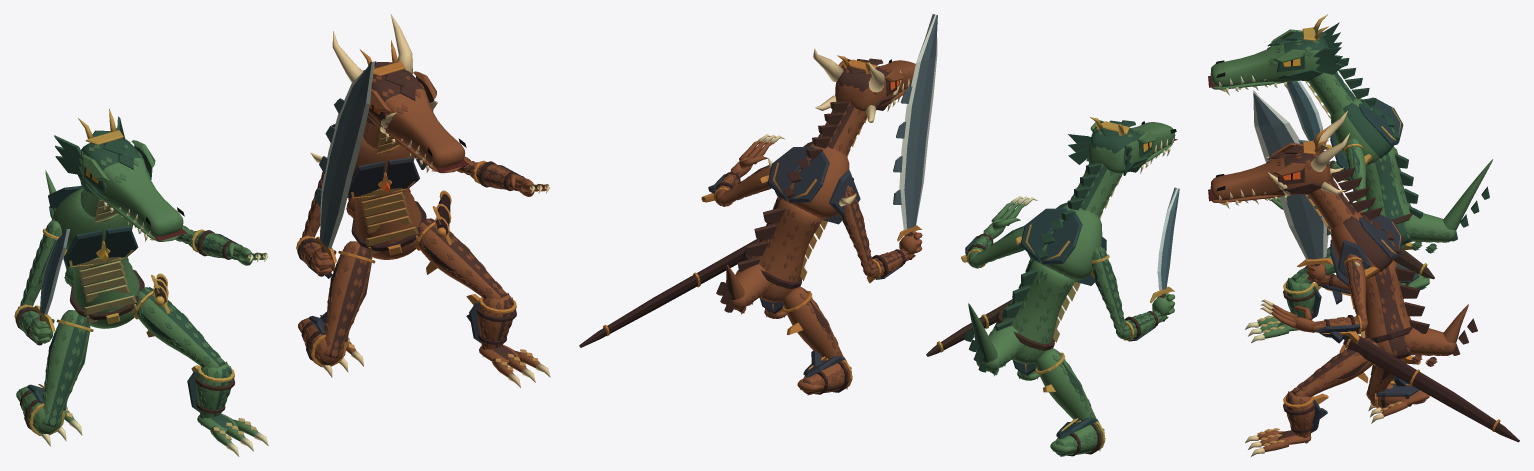
Rendered from reptiles.glb.
3 renders of one model, left to right at view 1: azimuth 30°, elevation 25°; view 2: azimuth 150°, elevation 25°; view 3: azimuth 270°, elevation 25°, orthographic. The views are drawn at different scales.
Visible parts, largest first — view 1: Dino.15.ridge forged cleaver, Liz.09.sculpted cranial planes, Dino.09.sculpted cranial planes, Liz.40.tendon and muscle surface, Dino.40.tendon and muscle surface, Liz.47.tendon and muscle surface, Dino.47.tendon and muscle surface, Dino.48.lean continuous abdomen, Liz.48.lean continuous abdomen, Liz.25.shoulder girdle, Liz.15.ridge forged falchion, Liz.25.pectoral cuirass (+10 smaller); view 2: Dino.15.ridge forged cleaver, Liz.48.lean continuous abdomen, Dino.48.lean continuous abdomen, Liz.09.sculpted cranial planes, Dino.33.fitted leather scabbard, Dino.09.sculpted cranial planes, Liz.25.shoulder girdle, Liz.40.tendon and muscle surface, Dino.40.tendon and muscle surface, Dino.25.shoulder girdle, Liz.15.ridge forged falchion, Dino.25.scapular backplate (+14 smaller); view 3: Dino.15.ridge forged cleaver, Dino.33.fitted leather scabbard, Liz.09.sculpted cranial planes, Dino.09.sculpted cranial planes, Dino.48.lean continuous abdomen, Liz.48.lean continuous abdomen, Liz.25.shoulder girdle, Dino.25.shoulder girdle, Dino.47.tendon and muscle surface, Liz.15.ridge forged falchion, Liz.10.sinewed neck, Dino.10.sinewed neck (+18 smaller).
Boxes of the visible parts, left/top/right/bottom form: Dino.15.ridge forged cleaver: left=320, top=61, right=376, bottom=248; Liz.09.sculpted cranial planes: left=80, top=138, right=183, bottom=236; Dino.09.sculpted cranial planes: left=367, top=69, right=465, bottom=167; Liz.40.tendon and muscle surface: left=42, top=310, right=90, bottom=427; Dino.40.tendon and muscle surface: left=324, top=241, right=372, bottom=358; Liz.47.tendon and muscle surface: left=137, top=287, right=225, bottom=367; Dino.47.tendon and muscle surface: left=418, top=218, right=507, bottom=299; Dino.48.lean continuous abdomen: left=354, top=188, right=421, bottom=259; Liz.48.lean continuous abdomen: left=72, top=257, right=139, bottom=328; Liz.25.shoulder girdle: left=51, top=187, right=132, bottom=258; Liz.15.ridge forged falchion: left=40, top=229, right=71, bottom=314; Liz.25.pectoral cuirass: left=63, top=230, right=103, bottom=266; Dino.15.ridge forged cleaver: left=899, top=14, right=937, bottom=229; Liz.48.lean continuous abdomen: left=993, top=259, right=1074, bottom=364; Dino.48.lean continuous abdomen: left=750, top=198, right=822, bottom=302; Liz.09.sculpted cranial planes: left=1088, top=122, right=1175, bottom=173; Dino.33.fitted leather scabbard: left=579, top=239, right=757, bottom=347; Dino.09.sculpted cranial planes: left=835, top=60, right=915, bottom=111; Liz.25.shoulder girdle: left=1028, top=202, right=1102, bottom=280; Liz.40.tendon and muscle surface: left=1035, top=348, right=1097, bottom=422; Dino.40.tendon and muscle surface: left=782, top=286, right=845, bottom=361; Dino.25.shoulder girdle: left=775, top=141, right=849, bottom=219; Liz.15.ridge forged falchion: left=1157, top=187, right=1179, bottom=289; Dino.25.scapular backplate: left=789, top=151, right=829, bottom=202; Dino.15.ridge forged cleaver: left=1253, top=90, right=1328, bottom=259; Dino.33.fitted leather scabbard: left=1343, top=335, right=1519, bottom=442; Liz.09.sculpted cranial planes: left=1210, top=33, right=1328, bottom=87; Dino.09.sculpted cranial planes: left=1210, top=146, right=1330, bottom=200; Dino.48.lean continuous abdomen: left=1365, top=260, right=1411, bottom=359; Liz.48.lean continuous abdomen: left=1366, top=146, right=1411, bottom=245; Liz.25.shoulder girdle: left=1331, top=96, right=1394, bottom=165; Dino.25.shoulder girdle: left=1331, top=210, right=1394, bottom=279; Dino.47.tendon and muscle surface: left=1292, top=338, right=1378, bottom=396; Liz.15.ridge forged falchion: left=1286, top=80, right=1322, bottom=141; Liz.10.sinewed neck: left=1308, top=72, right=1355, bottom=115; Dino.10.sinewed neck: left=1308, top=175, right=1355, bottom=229.
Size of the model in its own units: 84.19 by 55.88 by 51.12.
